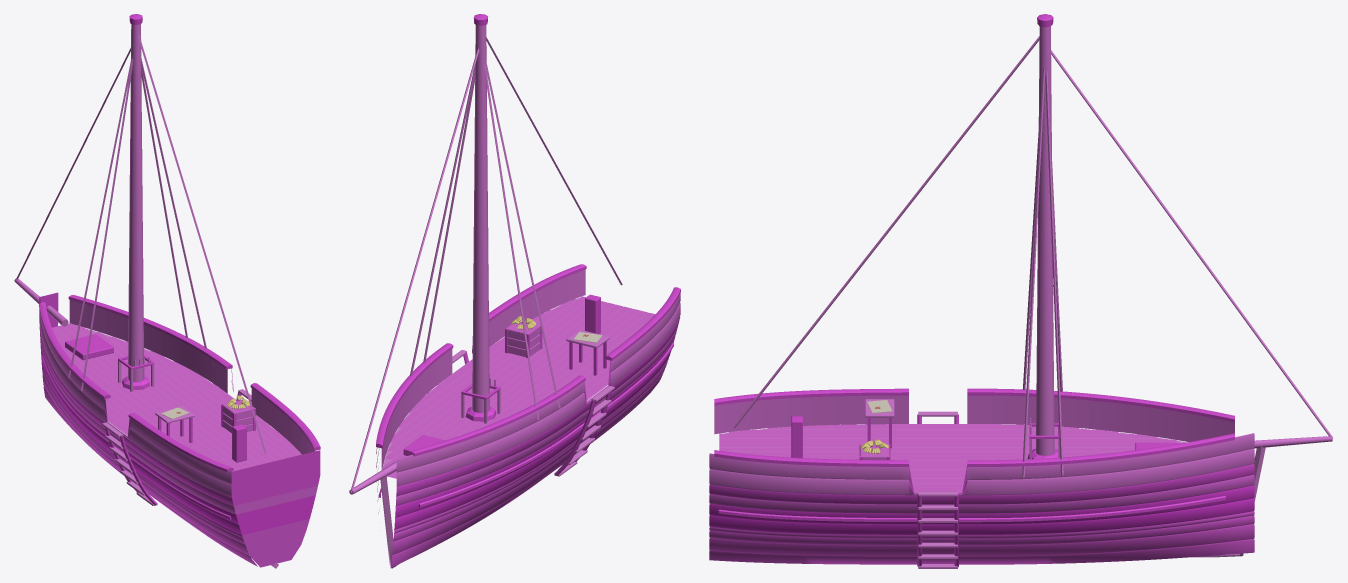
Rendered from sloop_hull.glb.
3 renders of one model, left to right at view 1: azimuth 30°, elevation 25°; view 2: azimuth 150°, elevation 25°; view 3: azimuth 270°, elevation 25°, orthographic. The views are drawn at different scales.
Parts seen in each view (by area): view 1: hull; view 2: hull; view 3: hull.
Part boxes in pixels (box(x1,y1,x2,y2)): hull: box(14, 14, 320, 568); hull: box(349, 14, 680, 568); hull: box(709, 14, 1332, 568).
Bounding box in the file's own units: 4.02 × 12.29 × 12.82.
